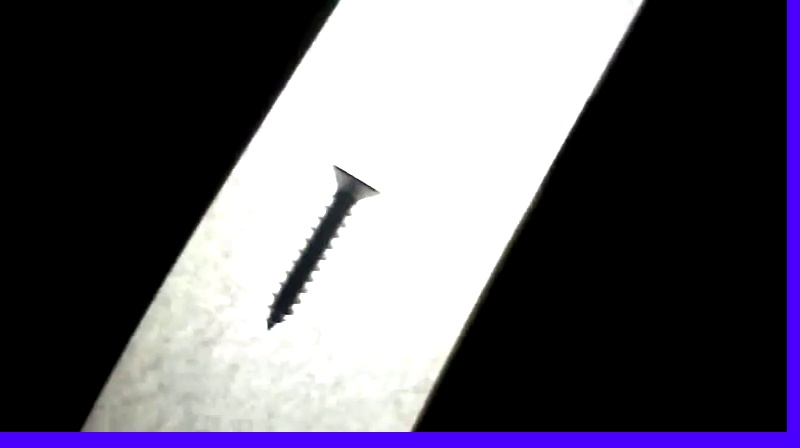S001: (256, 160, 384, 330)
